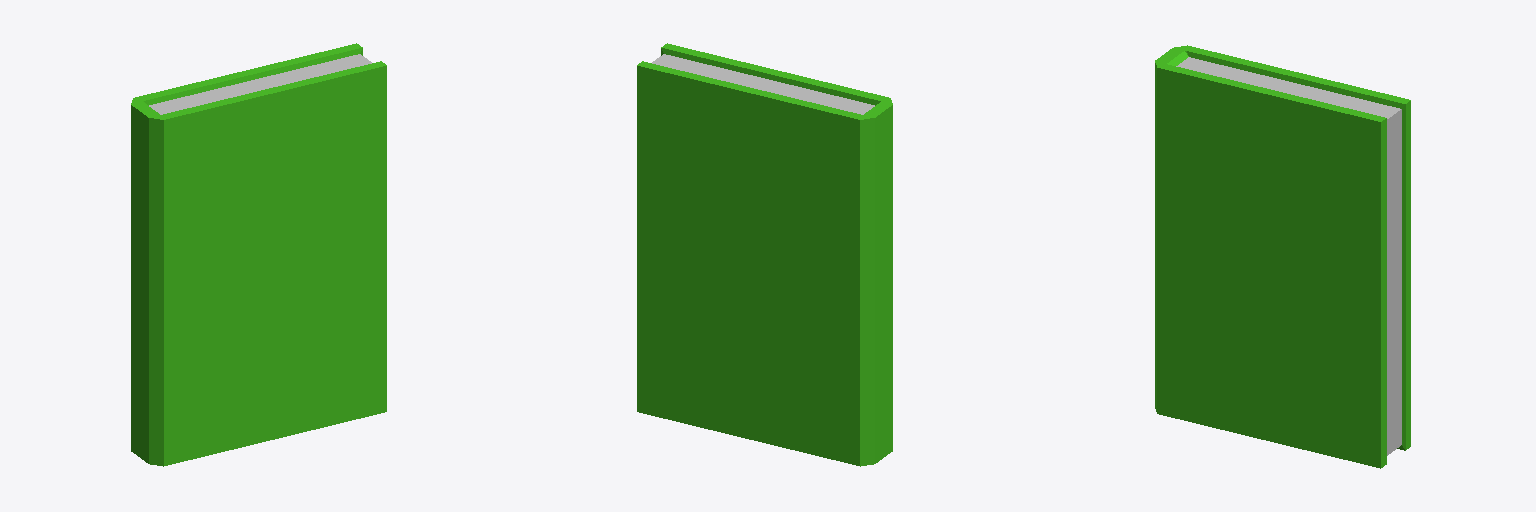
File: Book.obj
3 views of the same model, side by side, from view 1: azimuth 30°, elevation 25°; view 2: azimuth 150°, elevation 25°; view 3: azimuth 330°, elevation 25° (orthographic).
Parts seen in each view (by area): view 1: Books.002_Plane.003; view 2: Books.002_Plane.003; view 3: Books.002_Plane.003.
Part boxes in pixels (bbox=[...]): Books.002_Plane.003: bbox=[131, 43, 386, 466]; Books.002_Plane.003: bbox=[637, 43, 892, 466]; Books.002_Plane.003: bbox=[1155, 45, 1410, 468].
Bounding box in the file's own units: 0.3697 × 0.5265 × 0.0834.